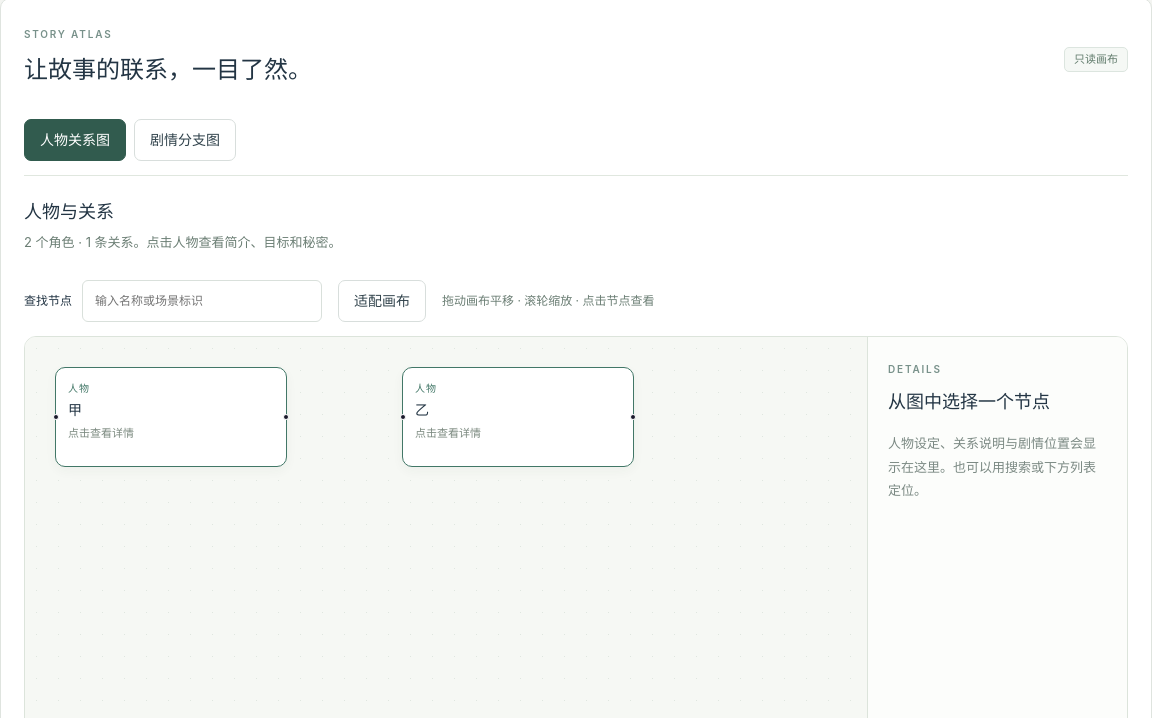
Test: V09–V11 read-only story atlas › filters the plot graph by a selected scene and keeps the text list available
The image size is (1152, 718).
Click the button "剧情分支图" at (185, 140), box top-left (134, 119), bottom-right (236, 161)
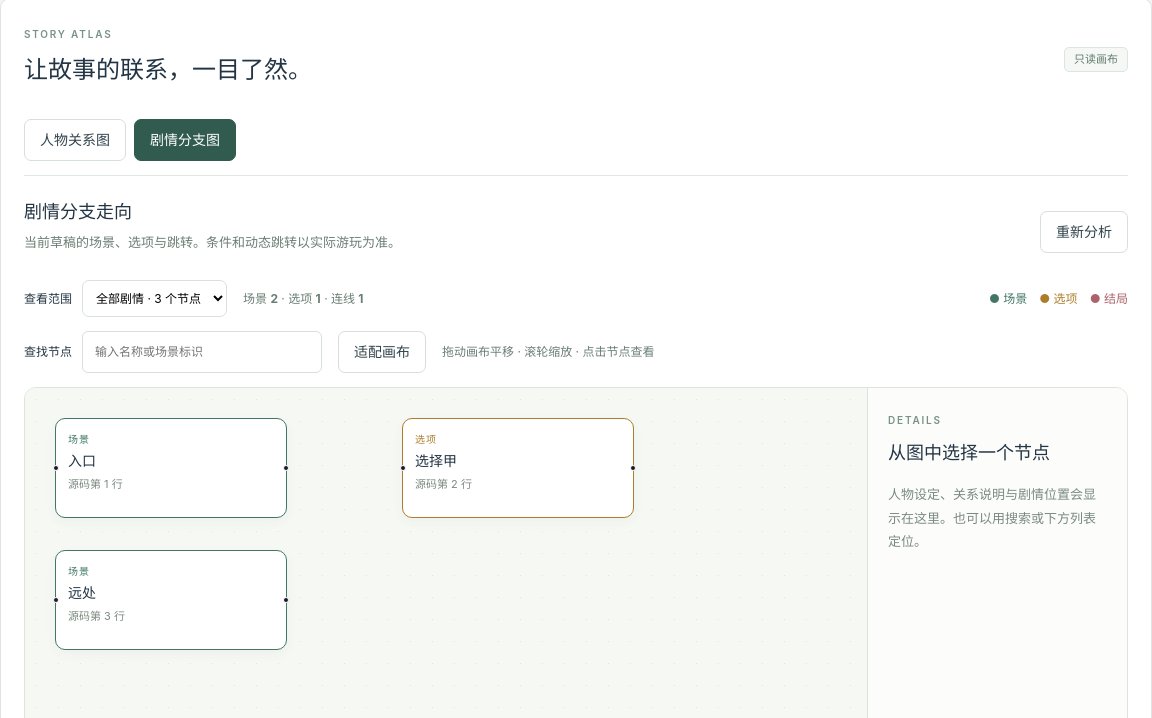
Check: the text "场景 2 · 选项 1 · 连线 1" is shown, box top-left (243, 289), bottom-right (364, 308)
Select "入口 · 相邻两步" in the dropdown labelled "查看范围" at (154, 298), box top-left (82, 280), bottom-right (227, 317)
(page scrolled)
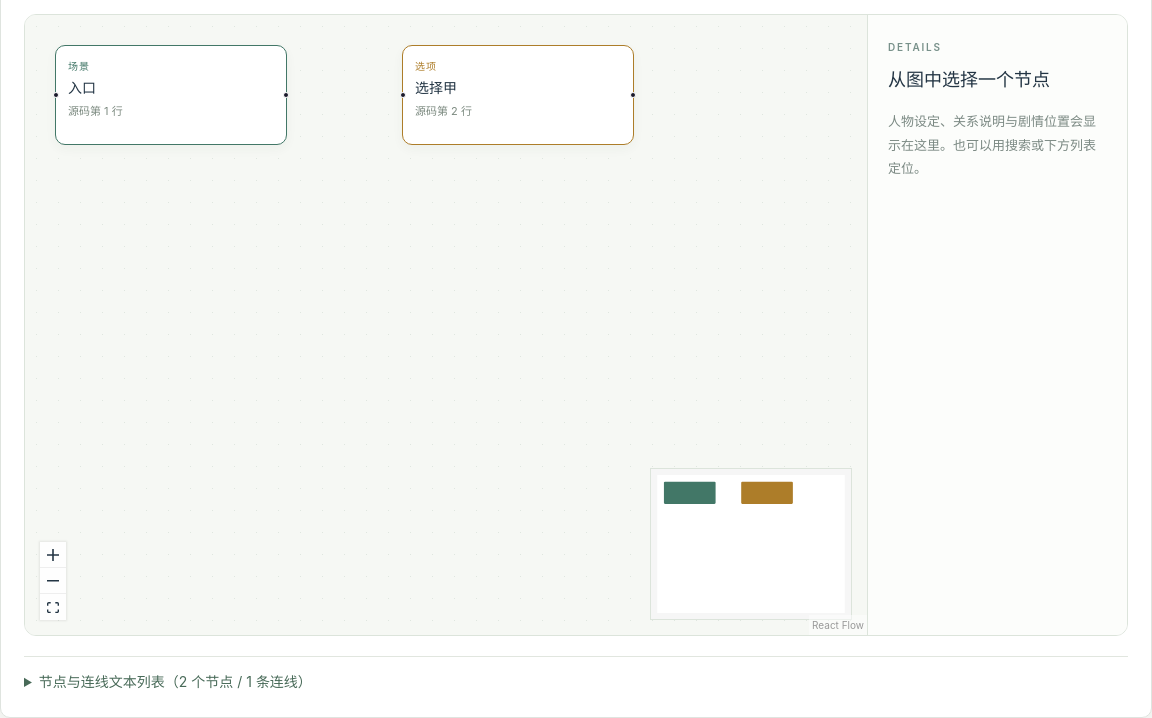
Check: the heading "节点与连线文本列表（2 个节点 / 1 条连线）" is shown
Click the heading "节点与连线文本列表（2 个节点 / 1 条连线）" at (175, 682), box top-left (39, 673), bottom-right (312, 690)
(page scrolled)
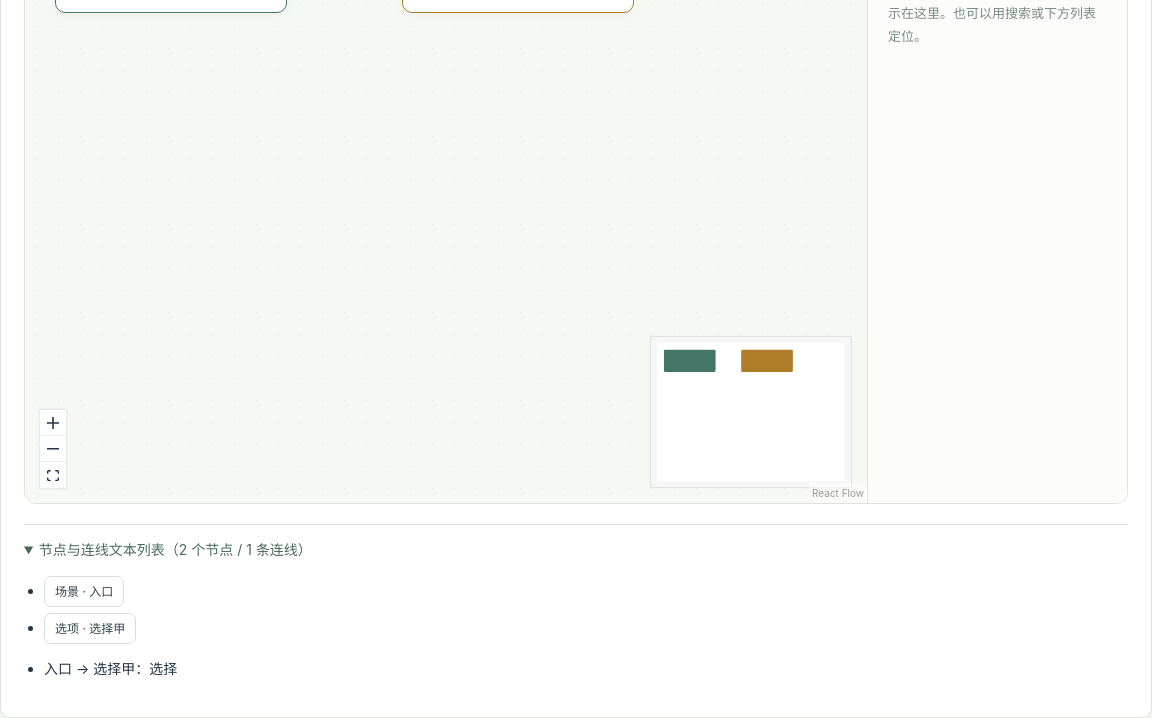
Check: the button "场景 · 入口" is shown, box top-left (44, 576), bottom-right (124, 607)
